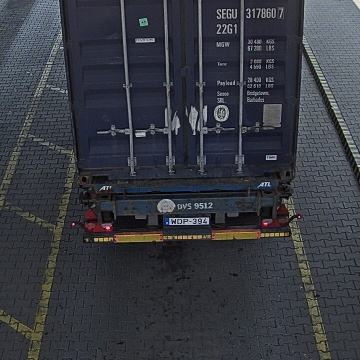serial_id: (216, 7, 284, 18)
